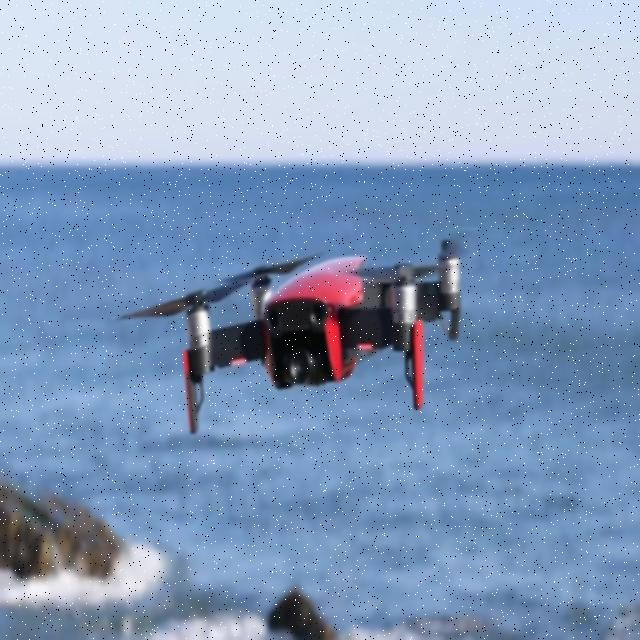UAV: (113, 228, 475, 438)
